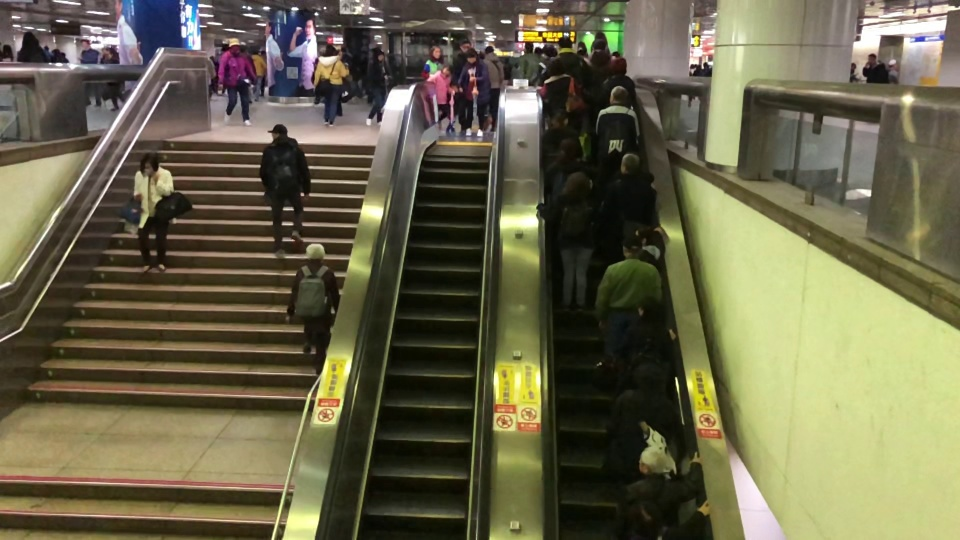person_head: (626, 500, 664, 540), (634, 363, 666, 395), (637, 446, 665, 477), (564, 170, 591, 197), (560, 137, 583, 161), (139, 151, 160, 176), (637, 295, 658, 319), (621, 236, 642, 259), (619, 152, 639, 175), (544, 57, 565, 78), (304, 243, 325, 263), (634, 226, 654, 246), (622, 421, 643, 439), (267, 124, 288, 142), (609, 85, 628, 104), (609, 57, 627, 75), (552, 107, 568, 127), (20, 31, 37, 48), (464, 47, 478, 65), (542, 43, 557, 58), (557, 36, 572, 49), (323, 44, 338, 57), (228, 37, 240, 53), (458, 39, 472, 52), (440, 63, 453, 77), (429, 45, 441, 60), (592, 38, 605, 51), (78, 38, 91, 50), (372, 50, 384, 62), (523, 41, 534, 53), (866, 53, 877, 64), (483, 45, 495, 55), (2, 44, 12, 55), (887, 59, 897, 69), (577, 46, 587, 56), (101, 46, 110, 57), (250, 46, 259, 55), (534, 46, 542, 56), (52, 48, 60, 56), (850, 62, 857, 71), (221, 43, 228, 52), (260, 50, 266, 57), (504, 56, 509, 63), (44, 45, 49, 51)
person_vbox: (591, 236, 663, 368), (535, 170, 597, 315), (258, 124, 312, 258), (285, 243, 339, 376), (615, 446, 703, 527), (599, 152, 658, 265), (612, 295, 676, 397), (604, 363, 682, 443), (600, 421, 677, 501), (132, 150, 178, 273), (594, 85, 640, 176), (611, 500, 711, 540), (216, 36, 256, 127), (544, 136, 594, 207), (457, 47, 490, 138), (313, 44, 349, 127), (594, 56, 638, 117), (536, 57, 583, 114), (541, 107, 583, 162), (481, 45, 504, 132), (452, 39, 472, 132), (365, 50, 389, 127), (426, 63, 454, 122), (100, 47, 124, 112), (78, 37, 100, 107), (634, 226, 666, 269), (557, 36, 583, 78), (519, 41, 542, 86), (17, 30, 47, 62), (250, 45, 267, 101), (420, 45, 443, 80), (862, 52, 887, 83), (588, 38, 610, 71), (538, 43, 557, 80), (220, 43, 228, 95), (258, 50, 266, 97), (887, 58, 899, 85), (576, 46, 592, 66), (2, 44, 17, 62), (849, 62, 861, 82), (503, 56, 511, 80), (51, 48, 64, 62), (44, 45, 53, 62)
